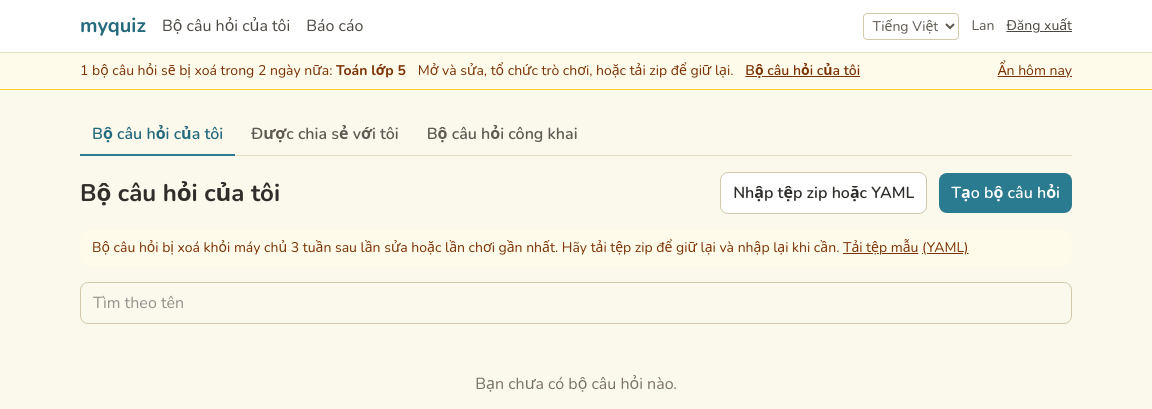
signed-in users are warned about quizzes deleted within 3 days
Expected: the text "sẽ bị xoá trong 2 ngày nữa" shows "Toán lớp 5", [336,61,406,80]
Click the button "Ẩn hôm nay".
click(1035, 71)  # box [998,61,1072,81]
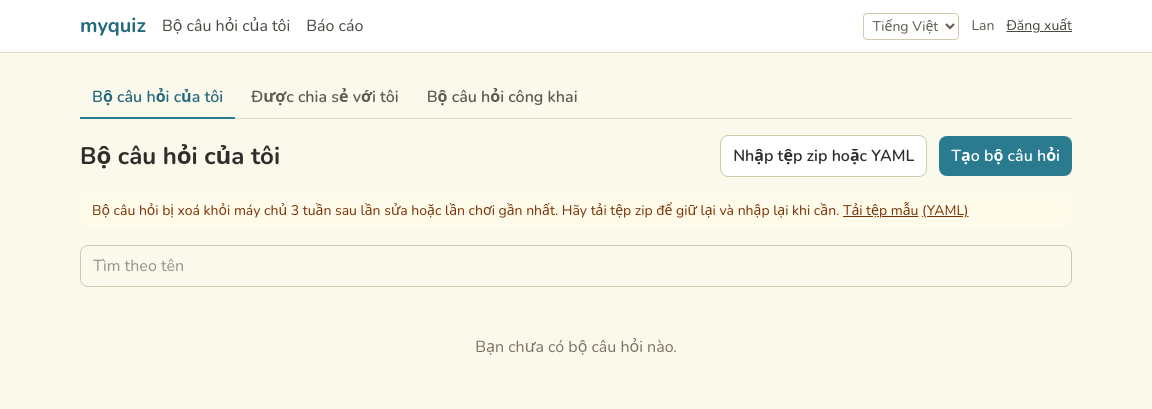
Expected: the text "sẽ bị xoá trong" is gone
